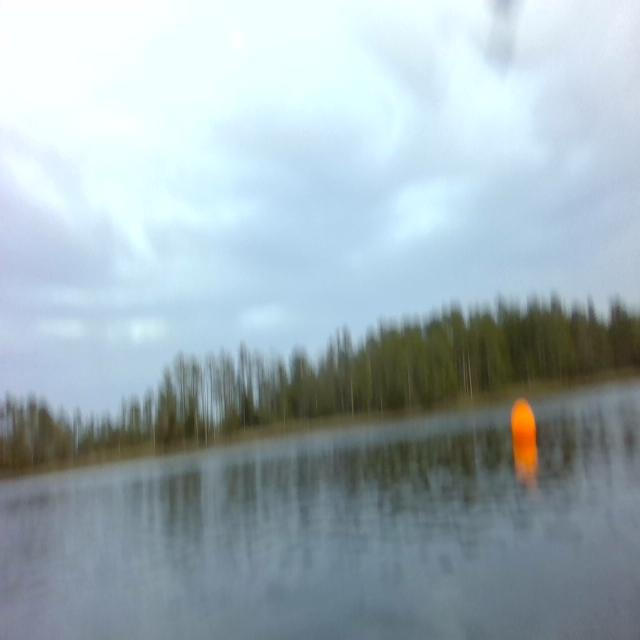Buoy: (509, 394, 541, 445)
